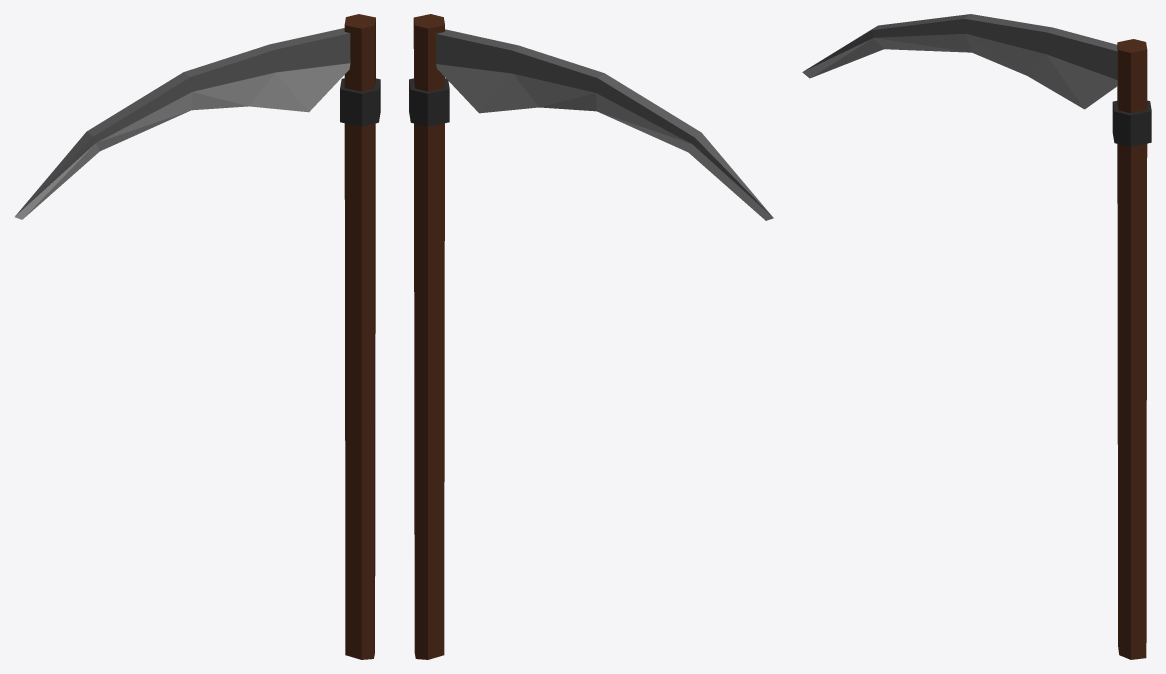
File: Scythe 01.FBX
3 views of the same model, side by side, from view 1: azimuth 30°, elevation 25°; view 2: azimuth 150°, elevation 25°; view 3: azimuth 330°, elevation 25° (orthographic). The views are drawn at different scales.
Parts seen in each view (by area): view 1: Scythe 01; view 2: Scythe 01; view 3: Scythe 01.
Boxes of the visible parts, x1=… form: Scythe 01: x1=14, y1=14, x2=380, y2=659; Scythe 01: x1=409, y1=14, x2=773, y2=659; Scythe 01: x1=802, y1=14, x2=1151, y2=659.
Size of the model in its own units: 54.45 by 90.4 by 5.27.
